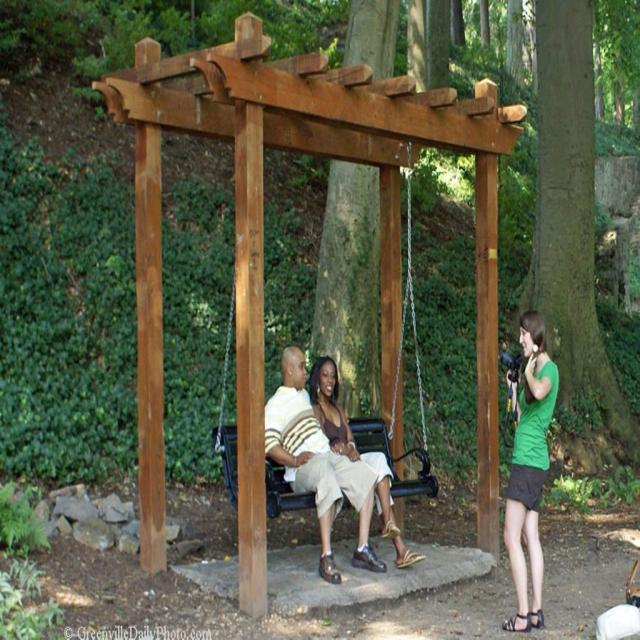nomask: (291, 351, 307, 386), (319, 362, 335, 396), (518, 323, 533, 357)
